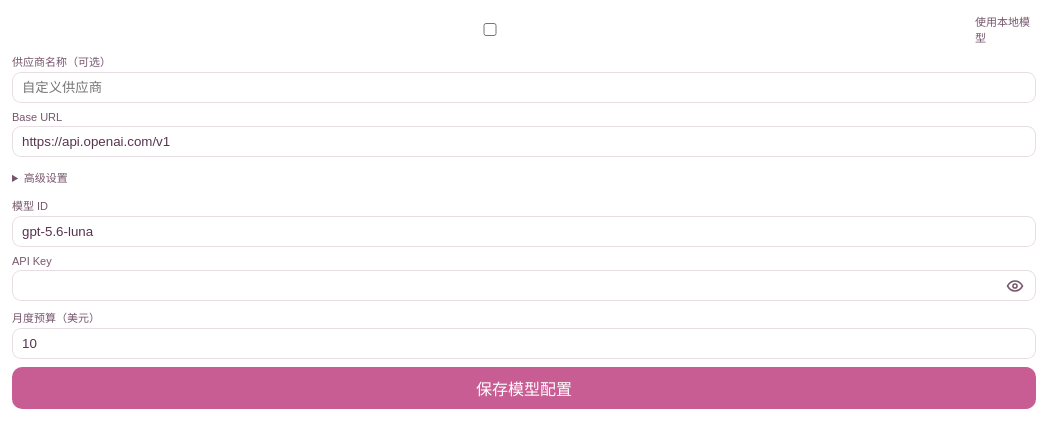
Test: ModelSettings › toggles API key visibility without moving or removing the control
Step 1. Type "sk-test-secret" into the password field labelled "API Key" → (524, 286), box [12,270,1036,301]
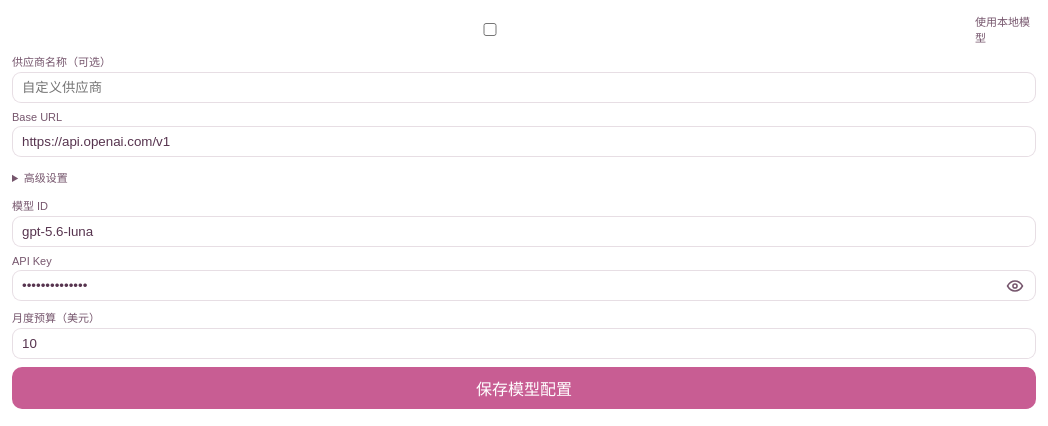
Step 2. Click the button named "显示 API Key" → (1015, 286), box [999,270,1031,302]
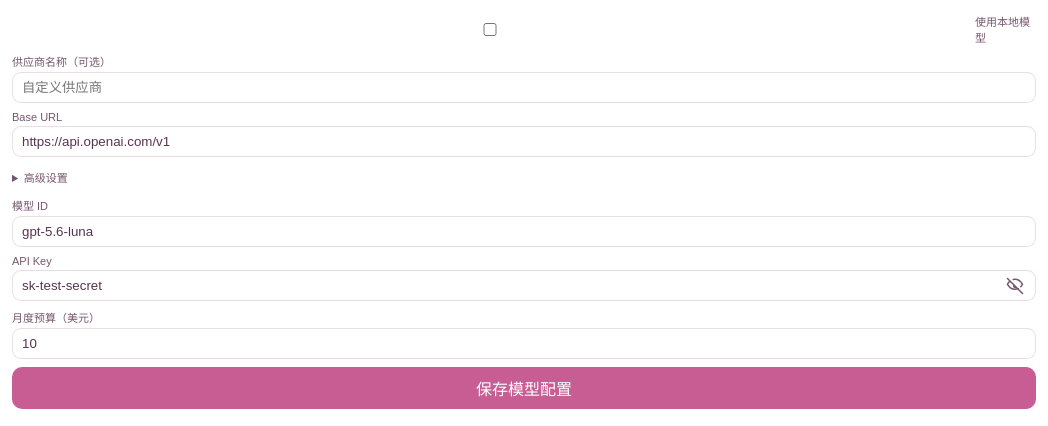
Expected: the field labelled "API Key" shows its text, [12,270,1036,301]
Step 3. Click the button named "隐藏 API Key" → (1015, 286), box [999,270,1031,302]
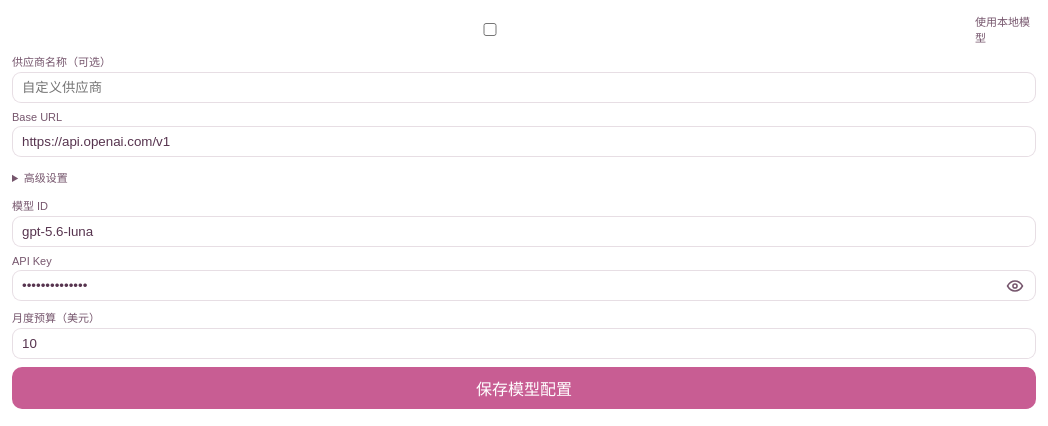
Expected: the password field labelled "API Key" hides its text, [12,270,1036,301]
